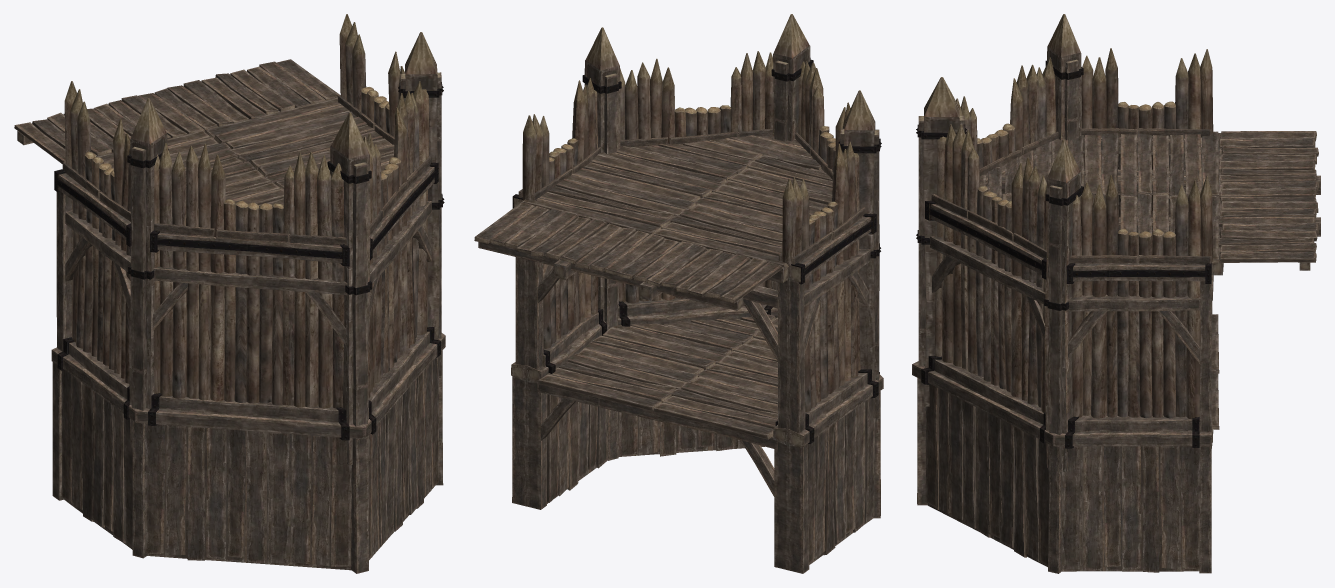
File: jav_struc_def_ironwood_t2_bastion-transformed.glb
3 renders of one model, left to right at view 1: azimuth 30°, elevation 25°; view 2: azimuth 150°, elevation 25°; view 3: azimuth 270°, elevation 25°, orthographic. The views are drawn at different scales.
Visible parts, largest first — view 1: default; view 2: default; view 3: default.
Part boxes in pixels (x1,y1,x2,y2): default: (14, 14, 445, 573); default: (474, 14, 883, 573); default: (912, 14, 1320, 573).
Bounding box in the file's own units: 9.13 × 12.49 × 10.84.
Materials: 1 (1 with a texture image).
